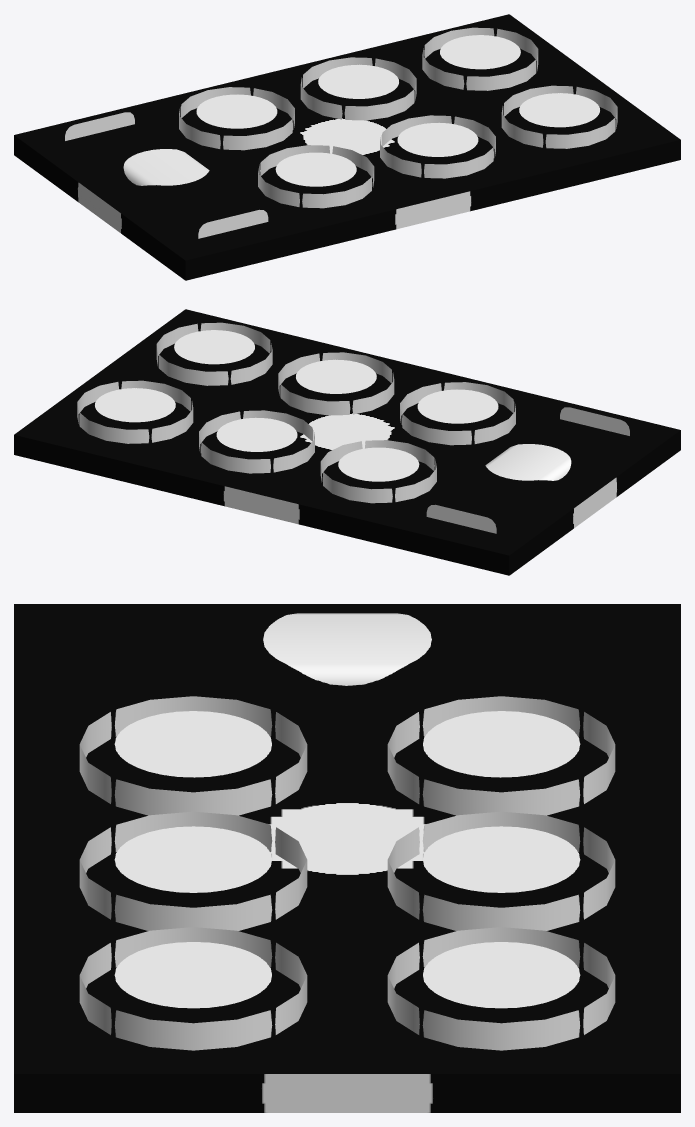
File: powerplant_puzzle_commands.fbx
3 views of the same model, one above another, from view 1: azimuth 30°, elevation 25°; view 2: azimuth 150°, elevation 25°; view 3: azimuth 270°, elevation 25° (orthographic). The views are drawn at different scales.
Visible parts, largest first — view 1: Support, Buttons, ValidateBtn; view 2: Support, Buttons, ValidateBtn; view 3: Support, Buttons, ValidateBtn.
Part boxes in pixels (x1,y1,x2,y2): Support: (14, 14, 680, 280); Buttons: (179, 27, 617, 208); ValidateBtn: (65, 112, 268, 238); Support: (14, 309, 680, 575); Buttons: (77, 322, 515, 503); ValidateBtn: (426, 407, 629, 533); Support: (14, 604, 680, 1112); Buttons: (79, 696, 615, 1050); ValidateBtn: (263, 613, 431, 685).
Size of the model in its own units: 0.75 by 0.45 by 0.0498.
